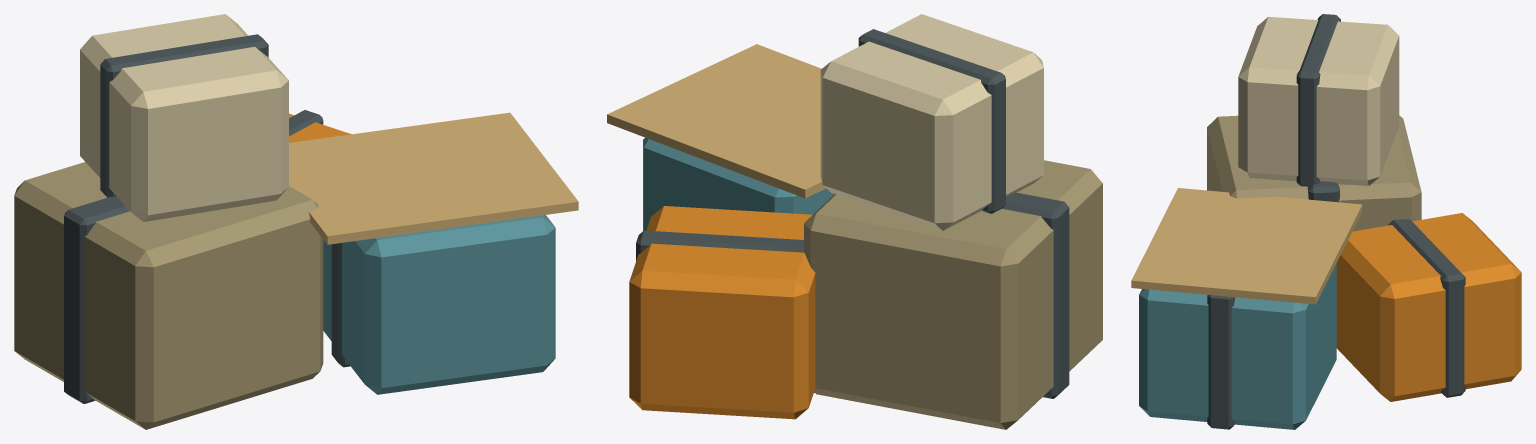
The model's file is wb_crate_cluster.glb.
3 views of the same model, side by side, from view 1: azimuth 30°, elevation 25°; view 2: azimuth 150°, elevation 25°; view 3: azimuth 270°, elevation 25° (orthographic). The views are drawn at different scales.
Parts seen in each view (by area): view 1: wb_crate_cluster; view 2: wb_crate_cluster; view 3: wb_crate_cluster.
Part boxes in pixels (x1=…): wb_crate_cluster: x1=14, y1=14, x2=578, y2=429; wb_crate_cluster: x1=607, y1=14, x2=1102, y2=429; wb_crate_cluster: x1=1131, y1=14, x2=1521, y2=429.
Bounding box in the file's own units: 0.9874 × 0.6578 × 0.8693.
